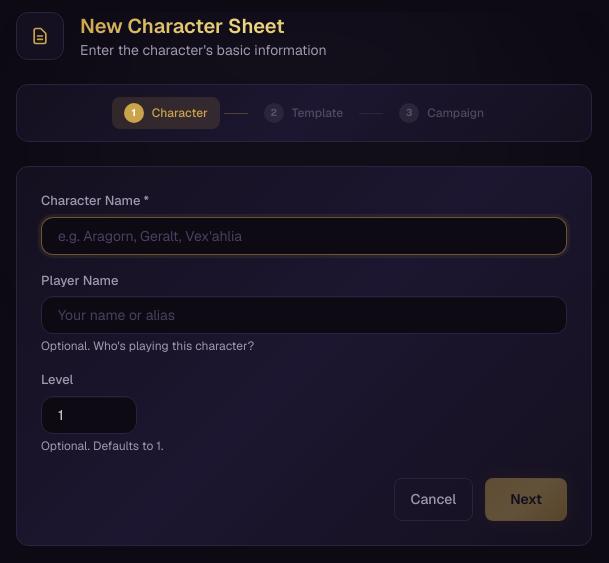
Test: NewCharacterSheetPage › blocks step 2 until a character name is entered
The image size is (609, 563).
Expected: the text "Character Name *" is shown, 41,192 -> 149,209
Expected: the button "Next" is disabled, 485,478 -> 567,521
Type "Aragorn" into the field with placeholder "e.g. Aragorn, Geralt, Vex'ahlia" at [304, 236], box 41,216 -> 567,255
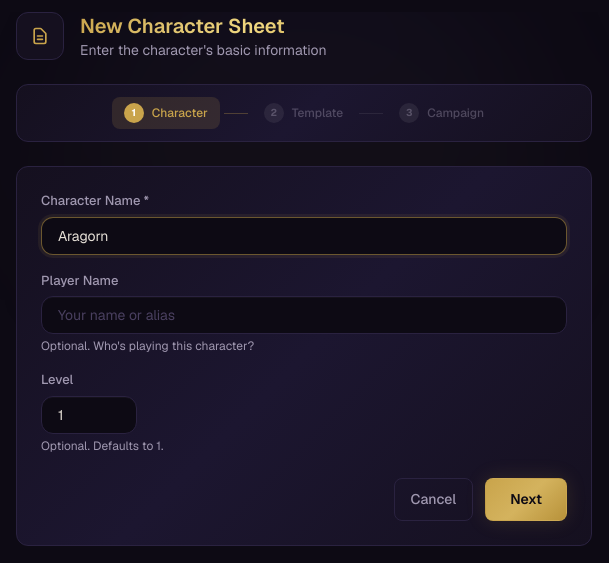
Expected: the button "Next" is enabled, 485,478 -> 567,521
